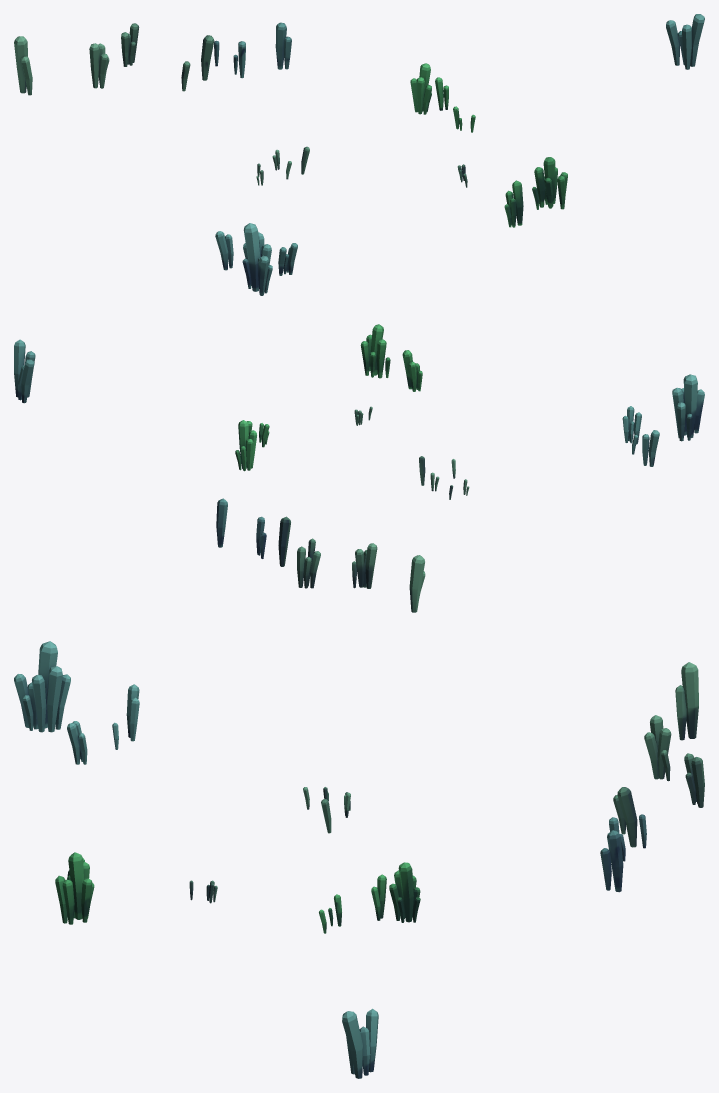
File: Plant_02.FBX
3 views of the same model, one above another, from view 1: azimuth 30°, elevation 25°; view 2: azimuth 150°, elevation 25°; view 3: azimuth 270°, elevation 25° (orthographic). The views are drawn at different scales.
Parts seen in each view (by area): view 1: Plant_02; view 2: Plant_02; view 3: Plant_02.
Part boxes in pixels (left/top/right/bottom): Plant_02: left=14, top=14, right=704, bottom=295; Plant_02: left=14, top=324, right=704, bottom=612; Plant_02: left=14, top=641, right=704, bottom=1078.
Size of the model in its own units: 28.56 by 3.58 by 23.41.
